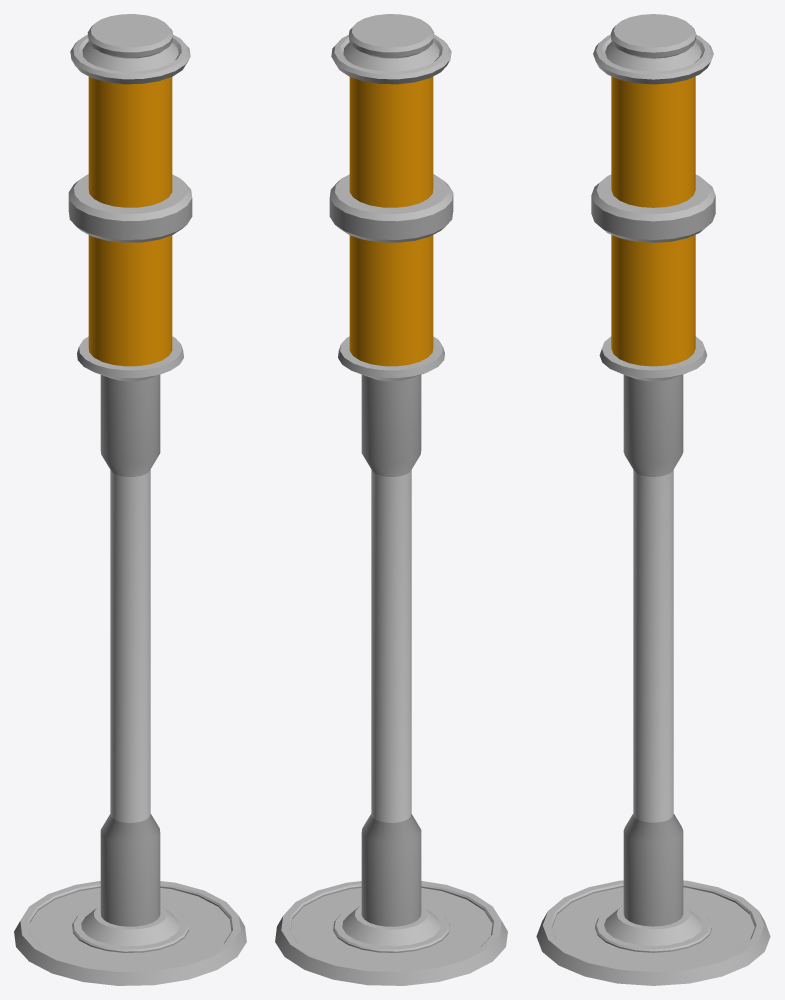
File: MODEL_OUTSIDE_LAMP.fbx
3 renders of one model, left to right at view 1: azimuth 30°, elevation 25°; view 2: azimuth 150°, elevation 25°; view 3: azimuth 270°, elevation 25°, orthographic.
Visible parts, largest first — view 1: outside_lamp; view 2: outside_lamp; view 3: outside_lamp.
Part boxes in pixels (left/top/right/bottom): outside_lamp: left=14, top=14, right=246, bottom=985; outside_lamp: left=275, top=14, right=507, bottom=985; outside_lamp: left=536, top=14, right=770, bottom=985.
Bounding box in the file's own units: 61.78 × 264 × 61.78.
